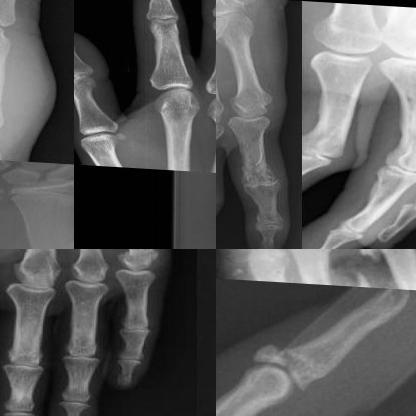fracture: (246, 333, 336, 399), (300, 261, 380, 285), (395, 79, 415, 141), (354, 249, 415, 269)
